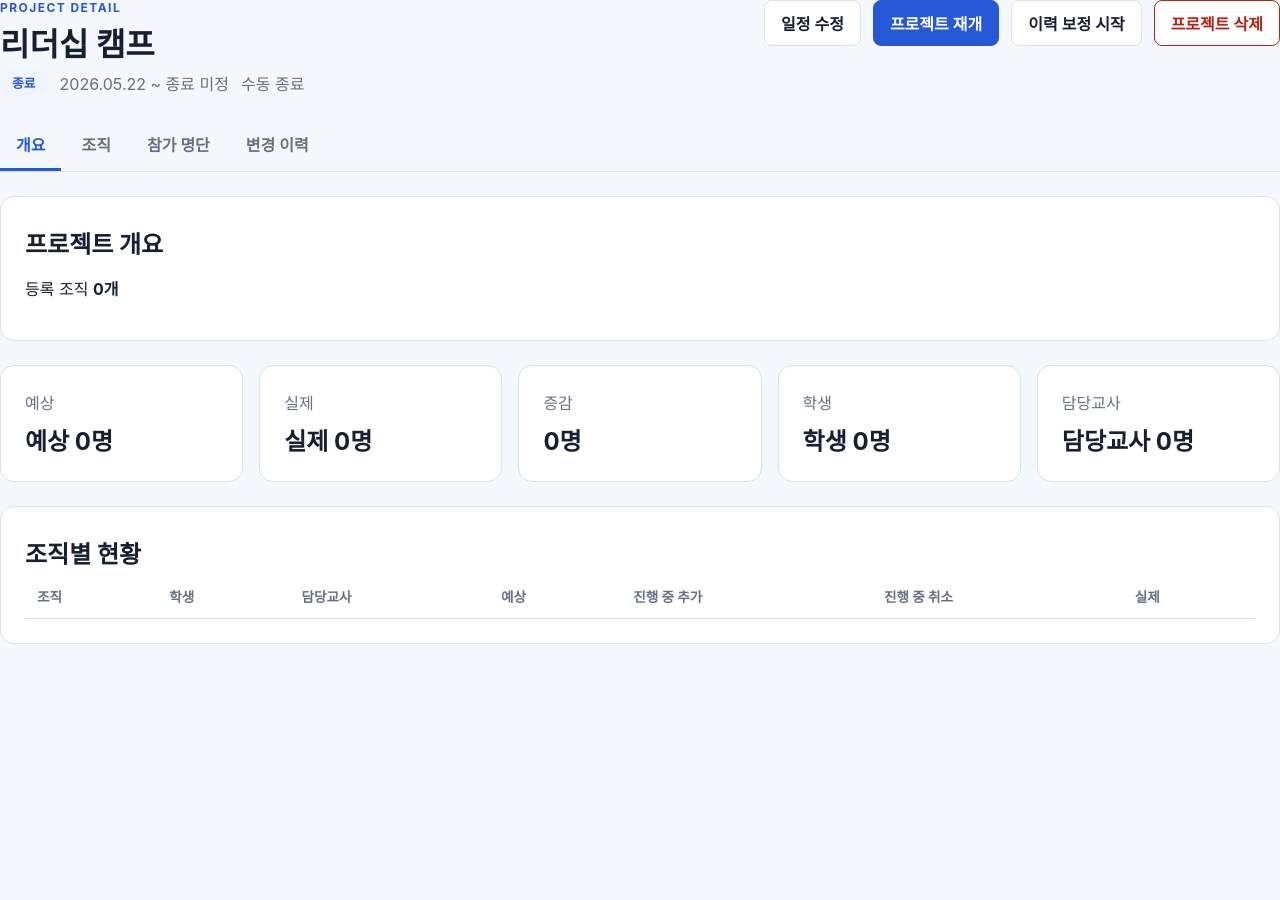
Test: keeps deletion open when the server rejects the exact project name
This screenshot has width=1280, height=900.
Click the button "프로젝트 삭제" at (1217, 23), box left=1154, top=0, right=1279, bottom=46
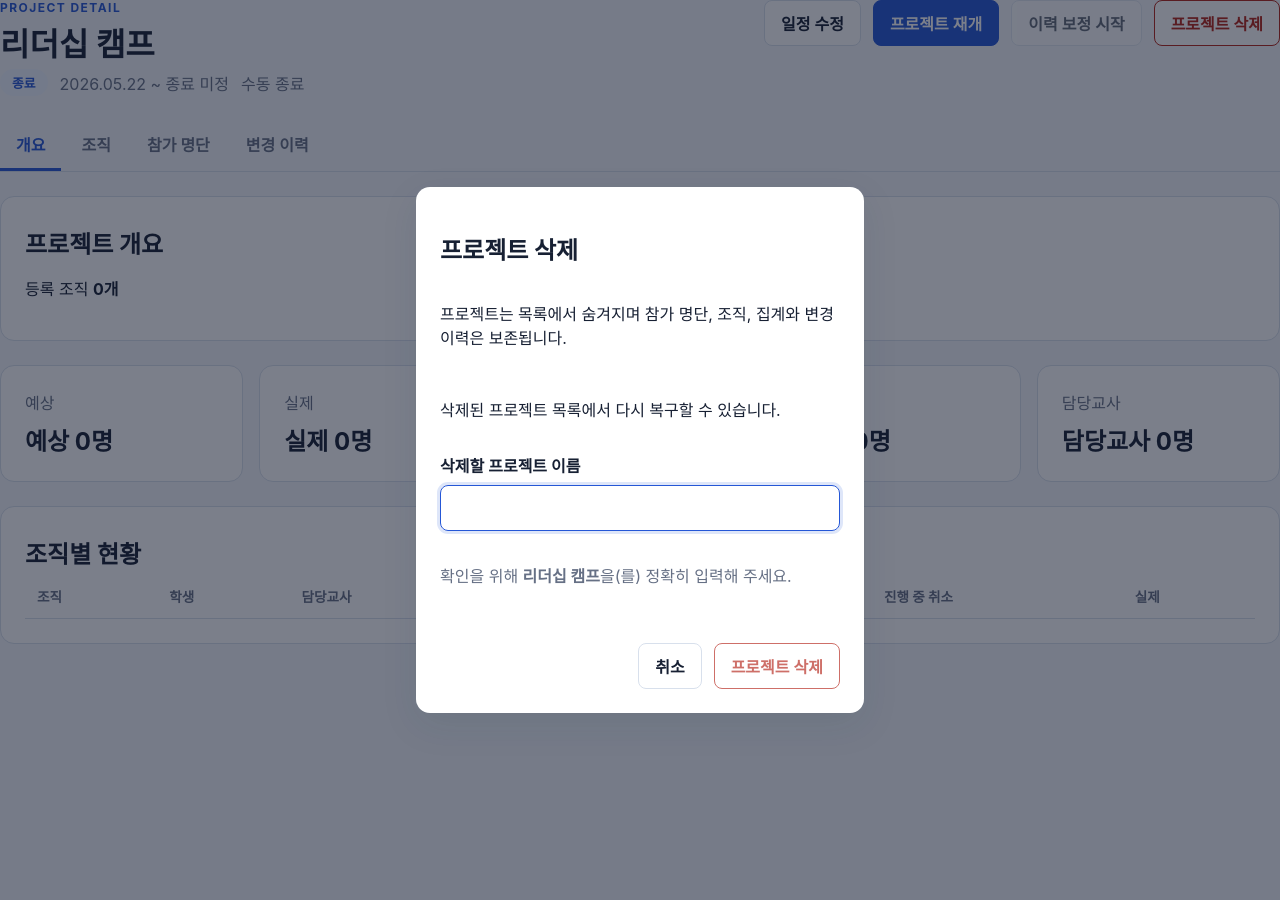
Type "리더십 캠프" into the field labelled "삭제할 프로젝트 이름" at (640, 508), box left=440, top=485, right=840, bottom=531
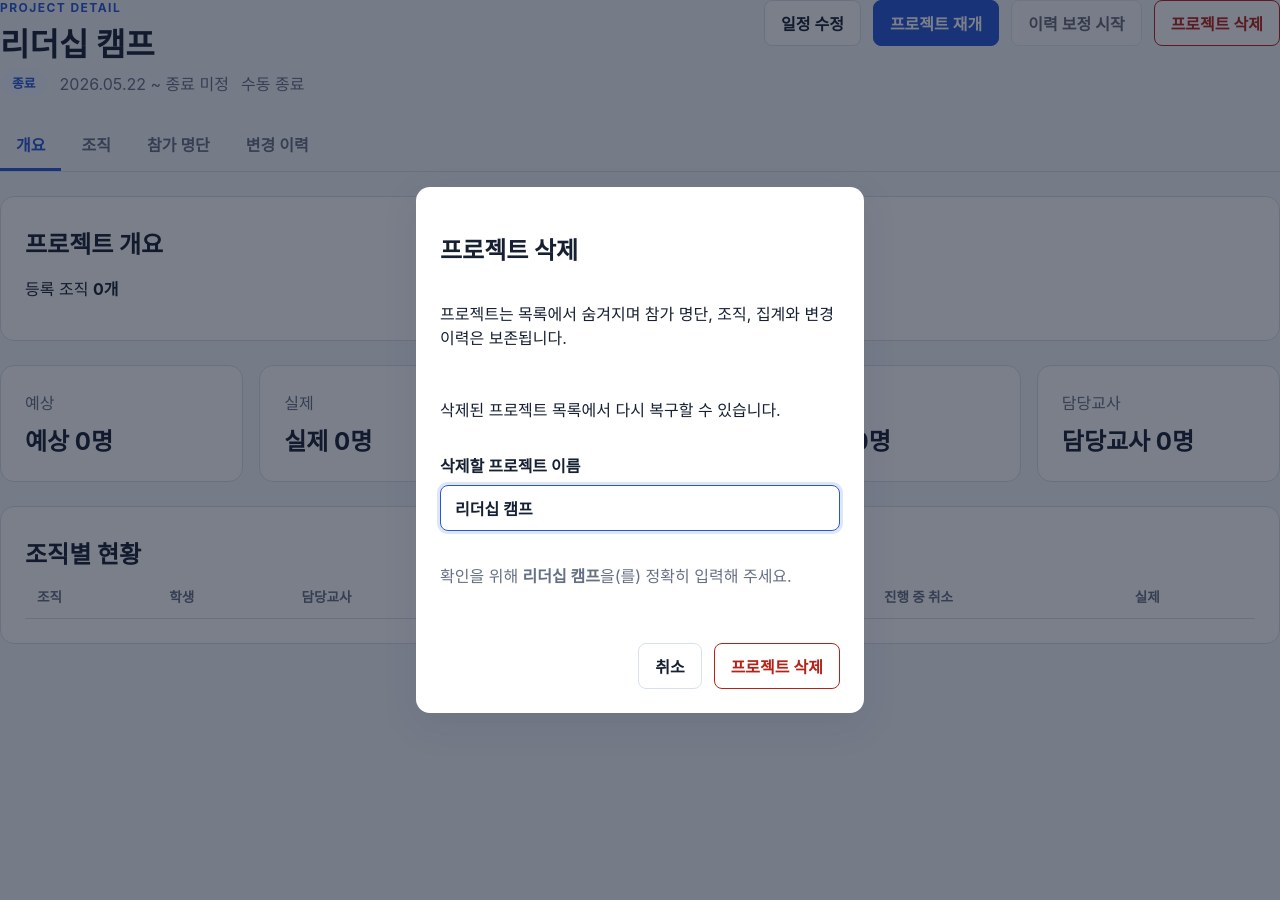
Click the button "프로젝트 삭제" at (777, 666), box left=714, top=643, right=840, bottom=689
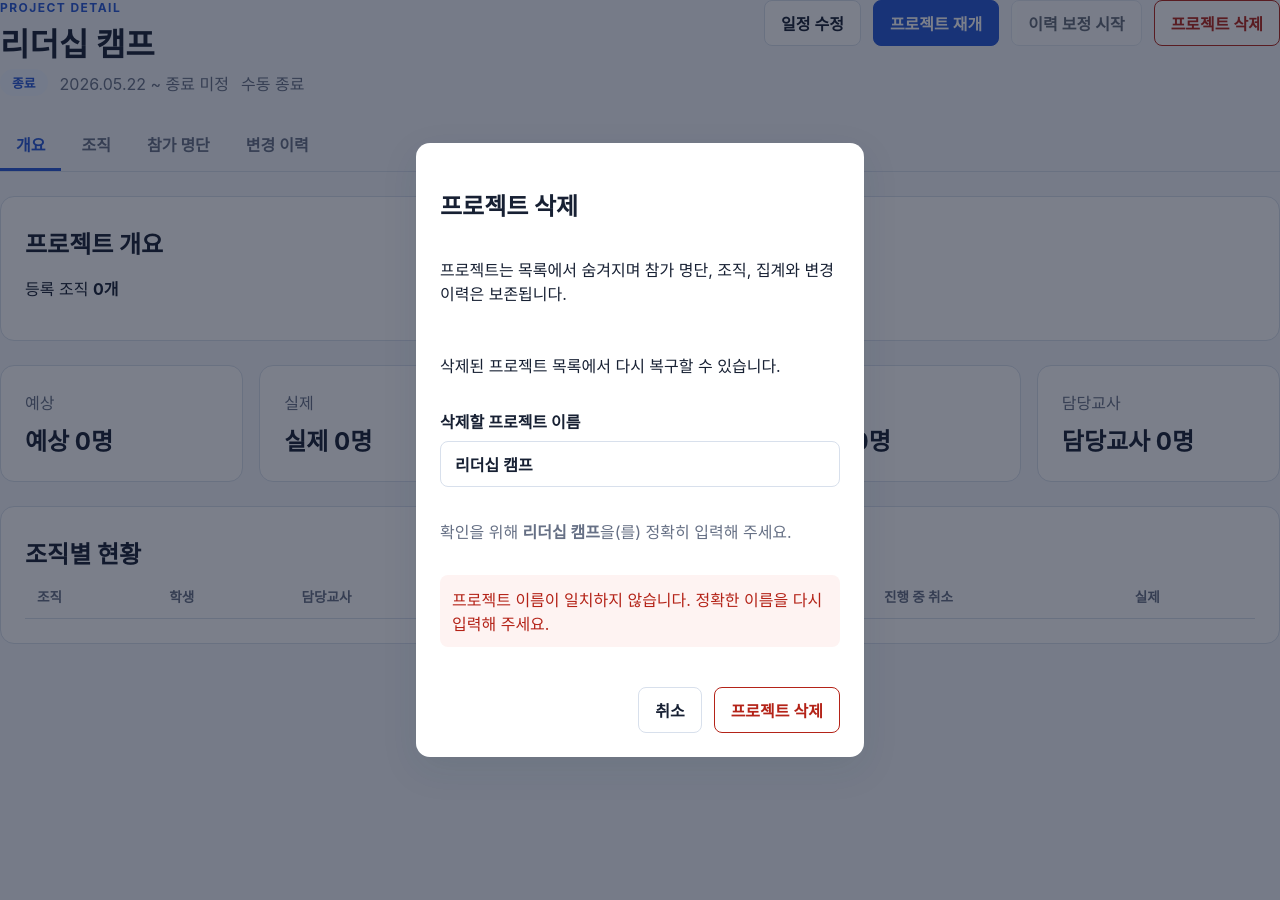
Expected: the dialog "프로젝트 삭제" is shown, left=416, top=143, right=864, bottom=757
Expected: the text "프로젝트 이름이 일치하지 않습니다. 정확한 이름을 다시 입력해 주세요." is shown, left=440, top=575, right=840, bottom=647
